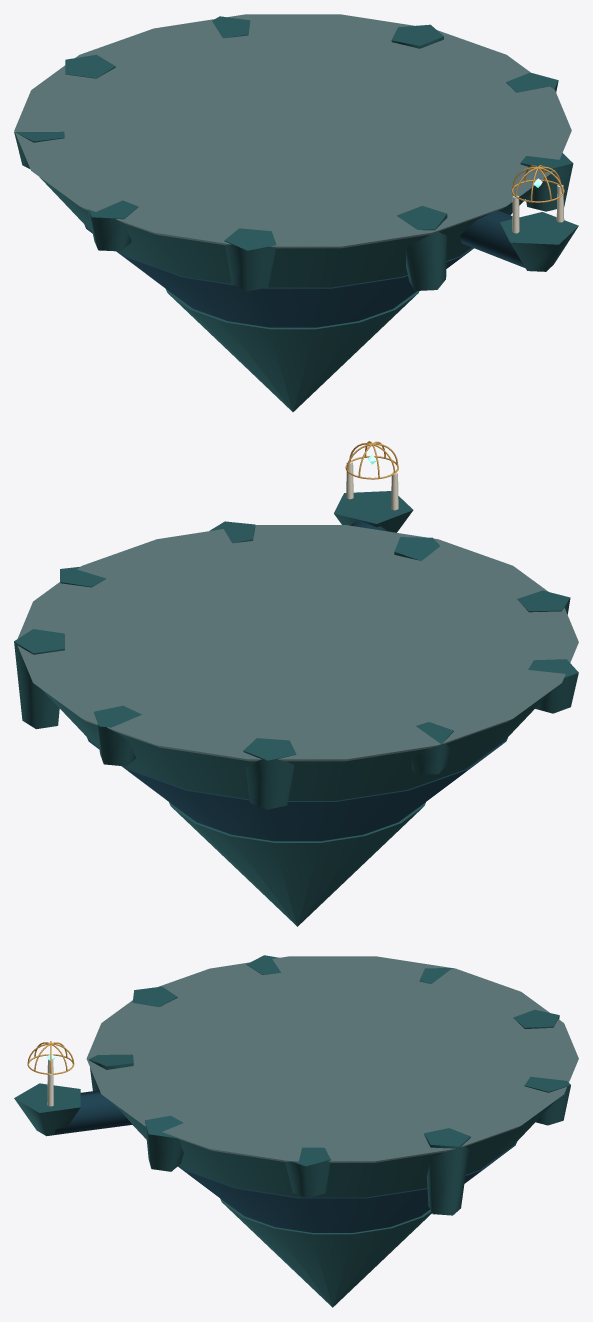
File: island-6-low.glb
The picture shows the model from 3 angles, top to bottom: view 1: azimuth 30°, elevation 25°; view 2: azimuth 150°, elevation 25°; view 3: azimuth 270°, elevation 25°; orthographic projection. The views are drawn at different scales.
Visible parts, largest first — view 1: island-5-terrace-merged, teal-basalt-merged, deep-basalt-merged, aged-brass-merged, chalk-sail-merged; view 2: island-5-terrace-merged, teal-basalt-merged, deep-basalt-merged, aged-brass-merged; view 3: island-5-terrace-merged, teal-basalt-merged, deep-basalt-merged, aged-brass-merged.
Part boxes in pixels (bbox=[...]): island-5-terrace-merged: bbox=[14, 14, 571, 248]; teal-basalt-merged: bbox=[14, 16, 578, 411]; deep-basalt-merged: bbox=[84, 210, 525, 327]; aged-brass-merged: bbox=[511, 165, 564, 202]; chalk-sail-merged: bbox=[512, 185, 564, 233]; island-5-terrace-merged: bbox=[17, 525, 578, 761]; teal-basalt-merged: bbox=[14, 491, 578, 926]; deep-basalt-merged: bbox=[87, 520, 507, 841]; aged-brass-merged: bbox=[345, 441, 398, 479]; island-5-terrace-merged: bbox=[86, 956, 578, 1162]; teal-basalt-merged: bbox=[14, 955, 570, 1307]; deep-basalt-merged: bbox=[54, 1090, 516, 1232]; aged-brass-merged: bbox=[27, 1041, 74, 1074].
Bounding box in the file's own units: 77.19 × 51.33 × 87.19.
